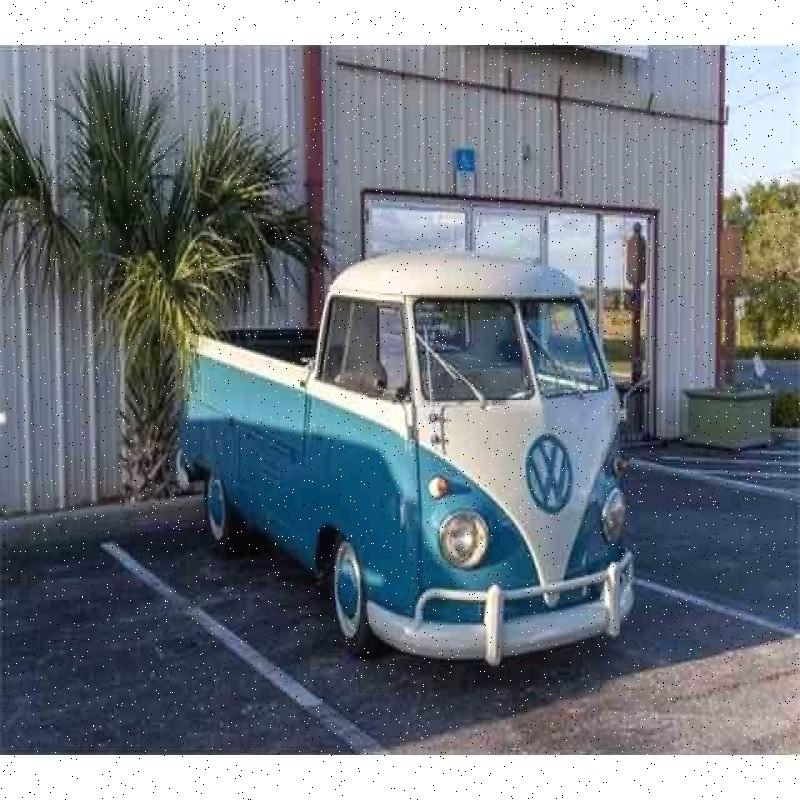bus: (192, 237, 634, 670)
